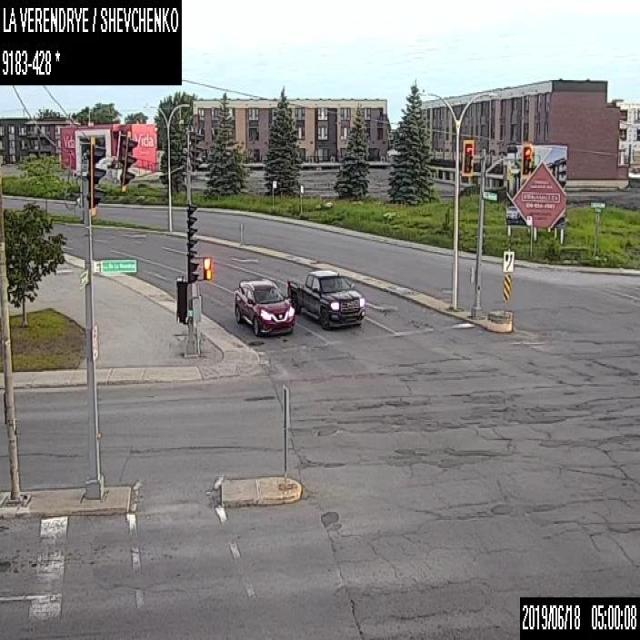vehicle: (286, 269, 364, 329), (234, 276, 294, 337)
